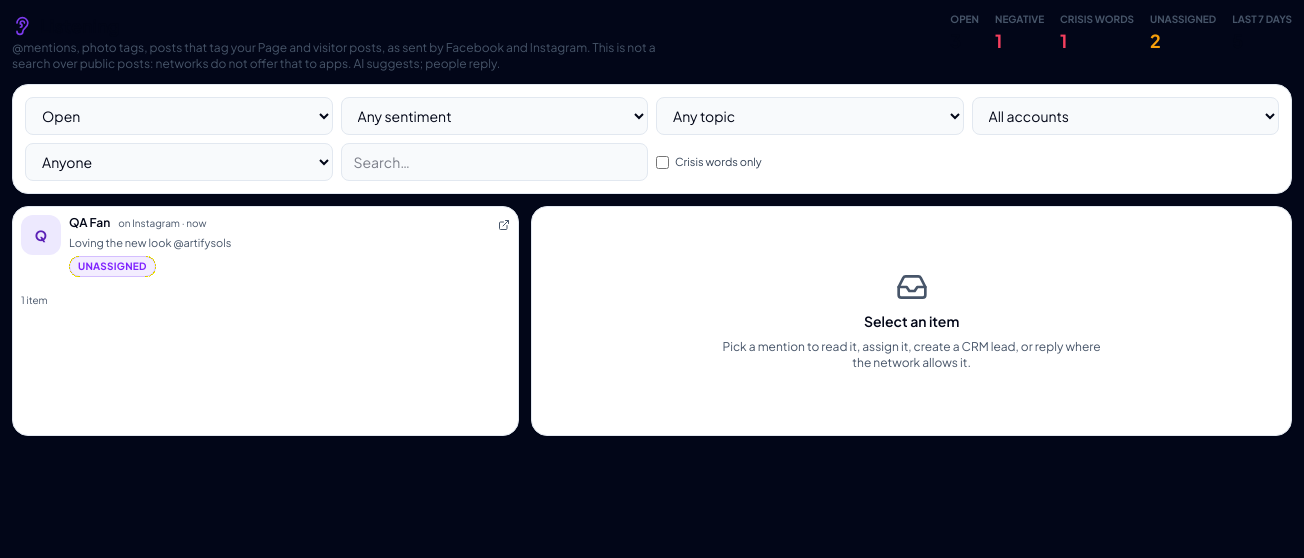
SocialListeningPage › shows 'Reply on the platform' with a deep link instead of a composer when the API cannot reply
Click the button "QA Fan" at {"x": 41, "y": 235}, box [13, 207, 518, 284]
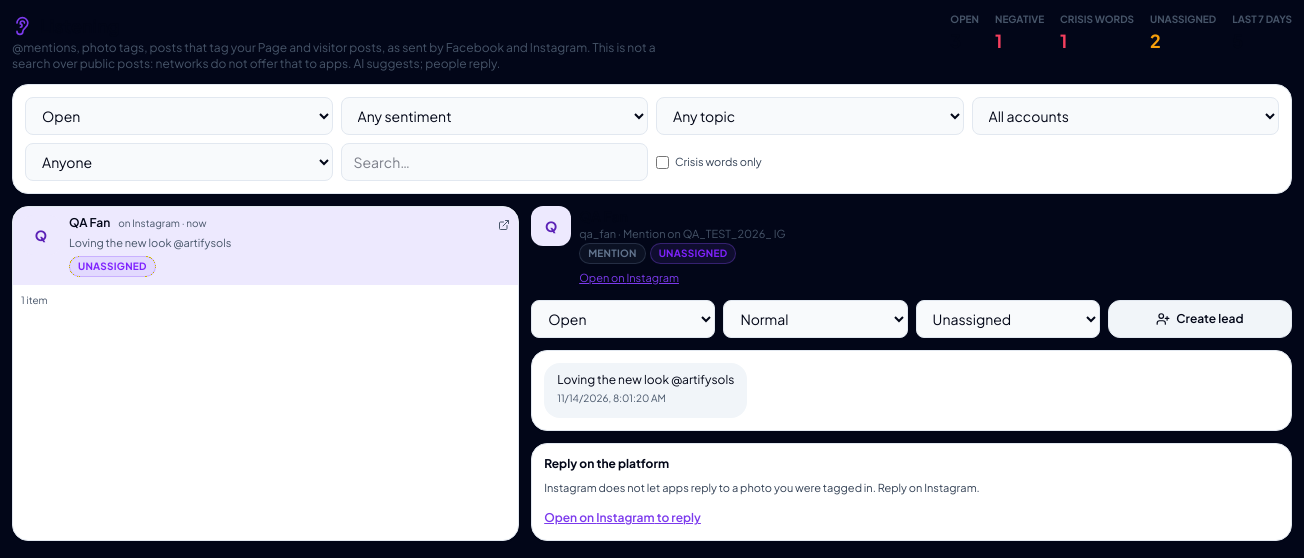
Expected: the text "photo you were tagged in" is shown, [544, 481, 980, 494]
